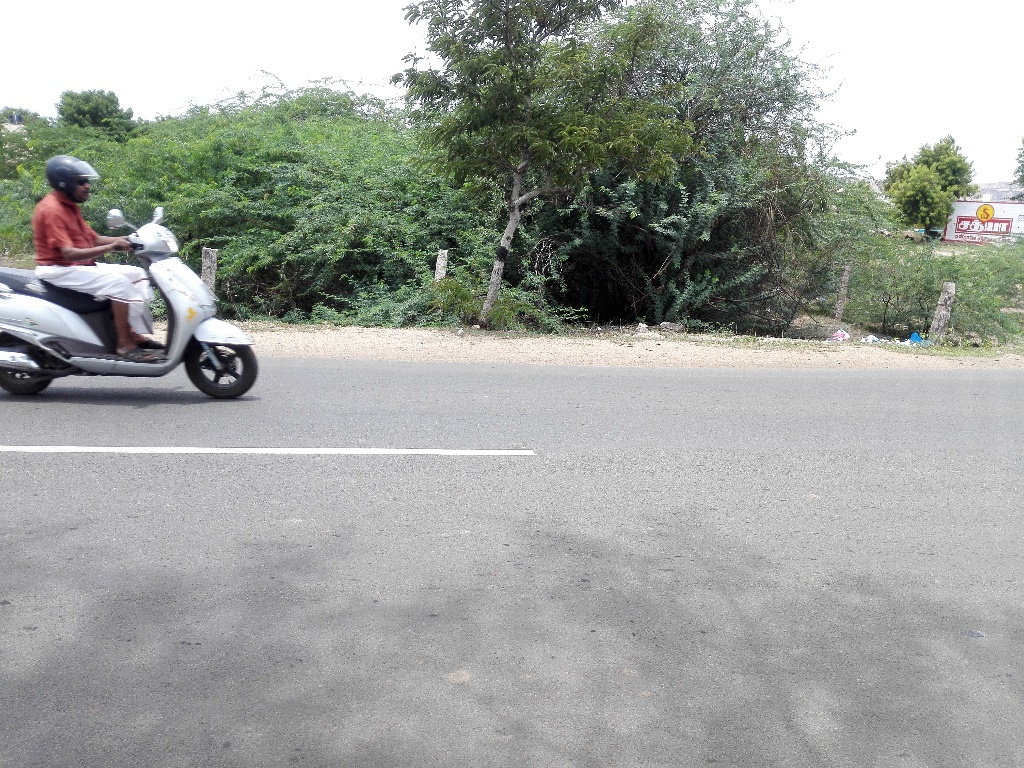biker: (1, 128, 272, 420)
helmet: (35, 145, 111, 217)
